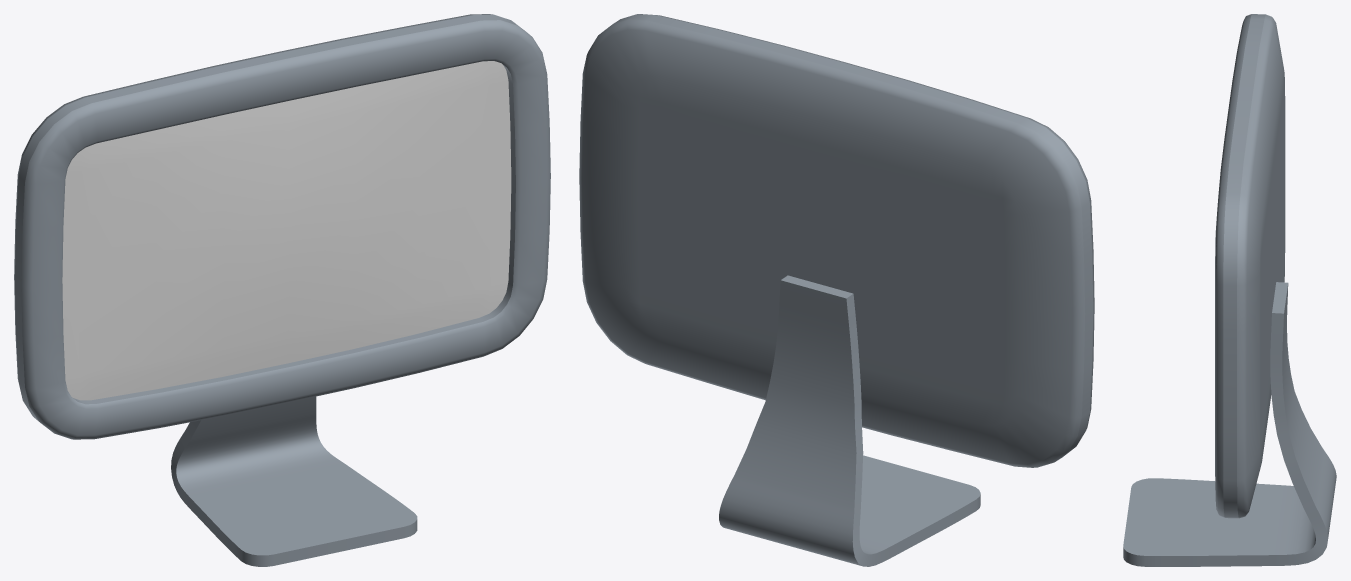
File: Computer.fbx
3 renders of one model, left to right at view 1: azimuth 30°, elevation 25°; view 2: azimuth 150°, elevation 25°; view 3: azimuth 270°, elevation 25°, orthographic. The views are drawn at different scales.
Visible parts, largest first — view 1: Computer; view 2: Computer; view 3: Computer.
Part boxes in pixels (<box>): Computer: <box>14,14,550,566</box>; Computer: <box>579,14,1094,566</box>; Computer: <box>1123,14,1336,566</box>.
Size of the model in its own units: 0.4708 by 0.3948 by 0.1788.
